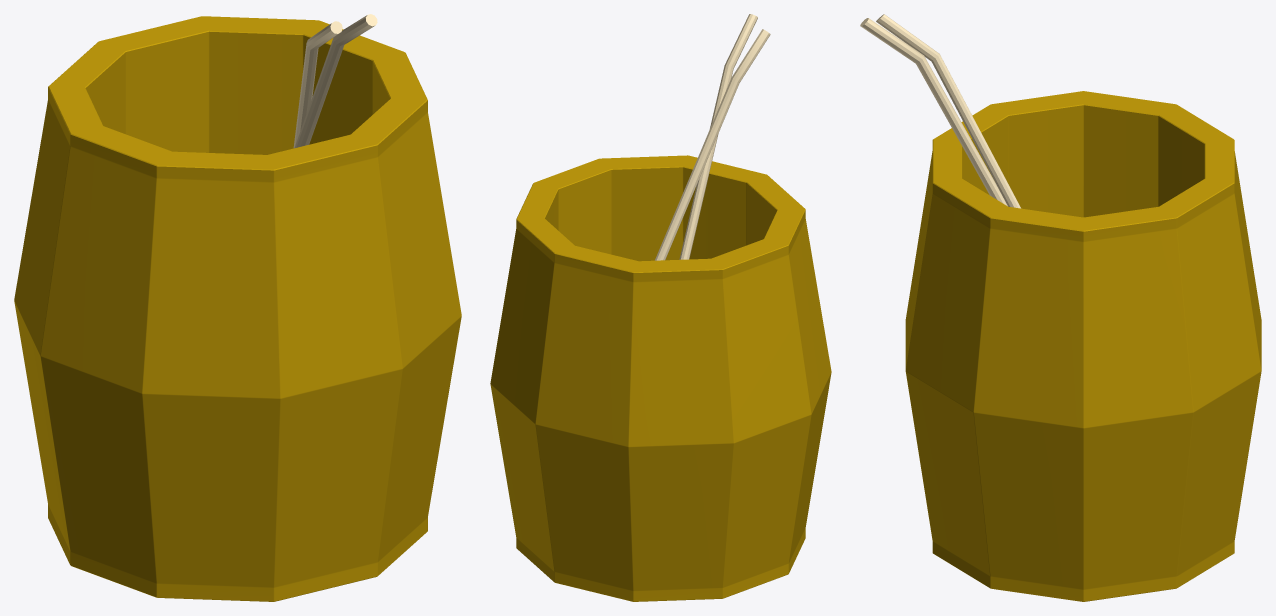
The model's file is Barrel.fbx.
3 views of the same model, side by side, from view 1: azimuth 30°, elevation 25°; view 2: azimuth 150°, elevation 25°; view 3: azimuth 270°, elevation 25° (orthographic). The views are drawn at different scales.
Parts seen in each view (by area): view 1: pCylinder15, pCylinder13, pCylinder14; view 2: pCylinder15, pCylinder14, pCylinder13; view 3: pCylinder15, pCylinder14, pCylinder13.
Boxes of the visible parts, left/top/right/bottom form: pCylinder15: left=14, top=16, right=461, bottom=601; pCylinder13: left=294, top=14, right=377, bottom=148; pCylinder14: left=293, top=21, right=342, bottom=147; pCylinder15: left=490, top=155, right=831, bottom=601; pCylinder14: left=655, top=29, right=770, bottom=260; pCylinder13: left=679, top=14, right=757, bottom=259; pCylinder15: left=905, top=91, right=1261, bottom=601; pCylinder14: left=876, top=14, right=1021, bottom=208; pCylinder13: left=860, top=18, right=1007, bottom=206.
Bounding box in the file's own units: 0.6584 × 0.9581 × 0.675.
